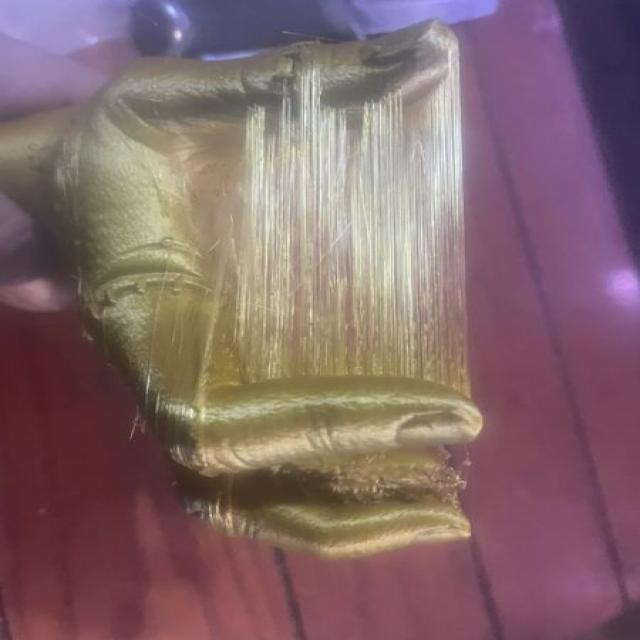Stringing: (212, 52, 464, 399)
